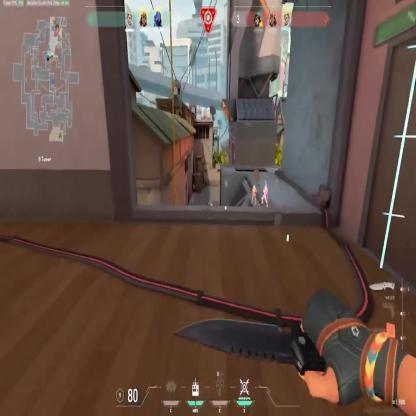enemy: (260, 181, 268, 207), (250, 184, 256, 205)
enemy_head: (264, 182, 266, 186), (254, 184, 255, 187)
